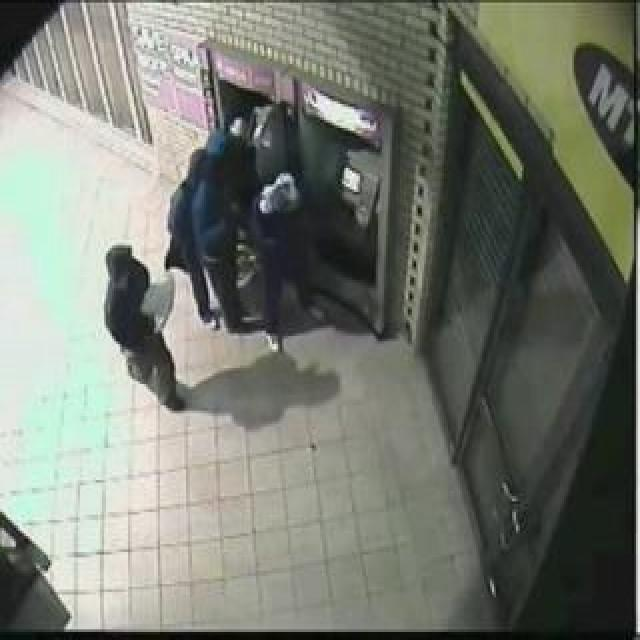thief: (88, 130, 330, 324)
